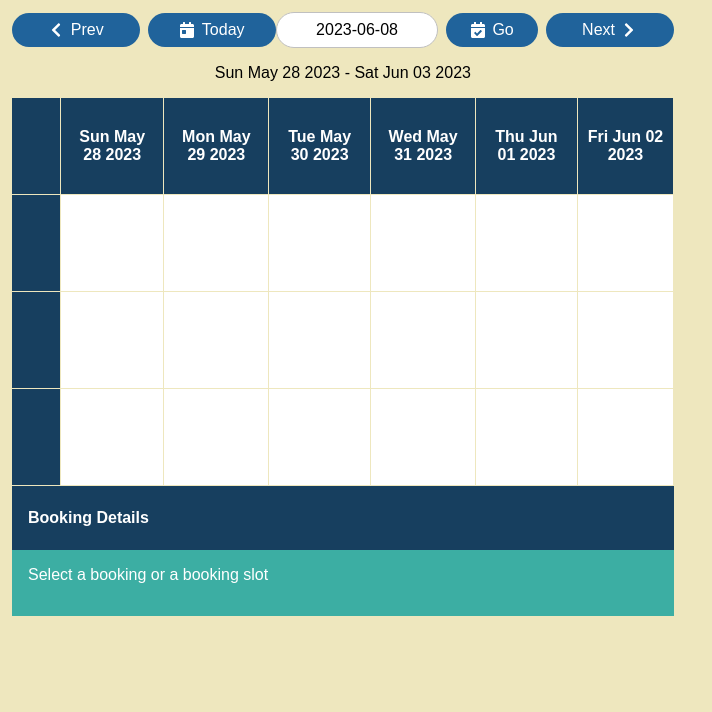
Scenario: Bookings › WeekPicker › should show a week and date when go to date feature is used
The image size is (712, 712).
Click the button with test id "today" at (212,30), box [148,13,276,47]
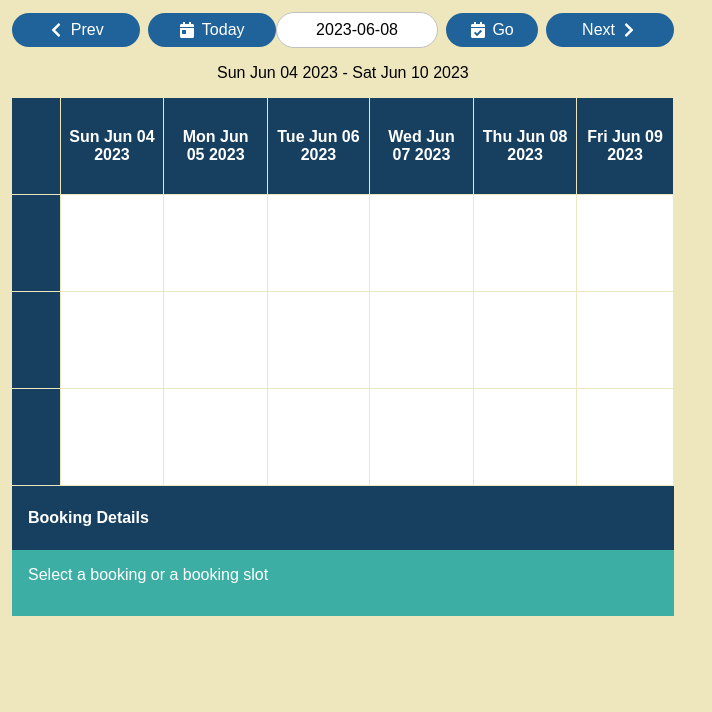
Replace the text in the field with test id "date-input" with "2020-09-02" at (357,30), box [276,12,438,48]
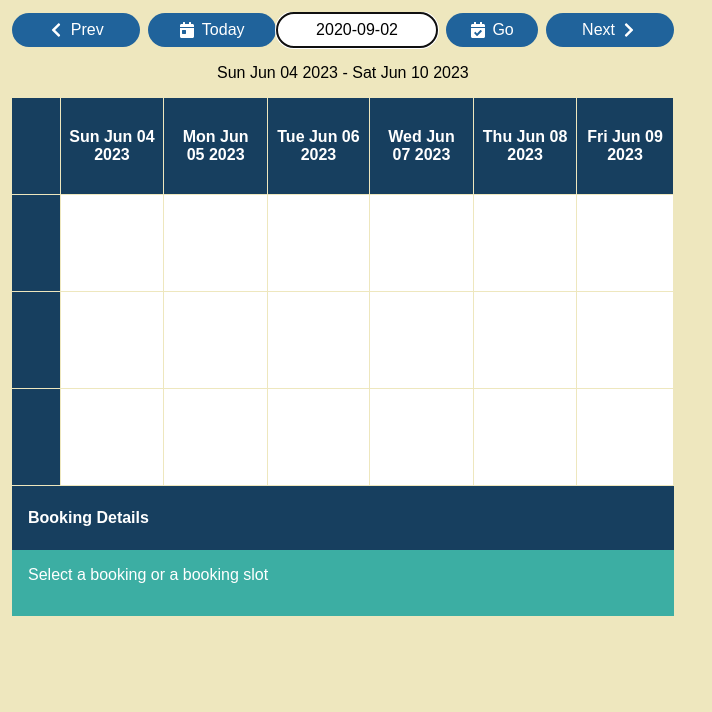
Click the button with test id "go" at (492,30), box [446,13,538,47]
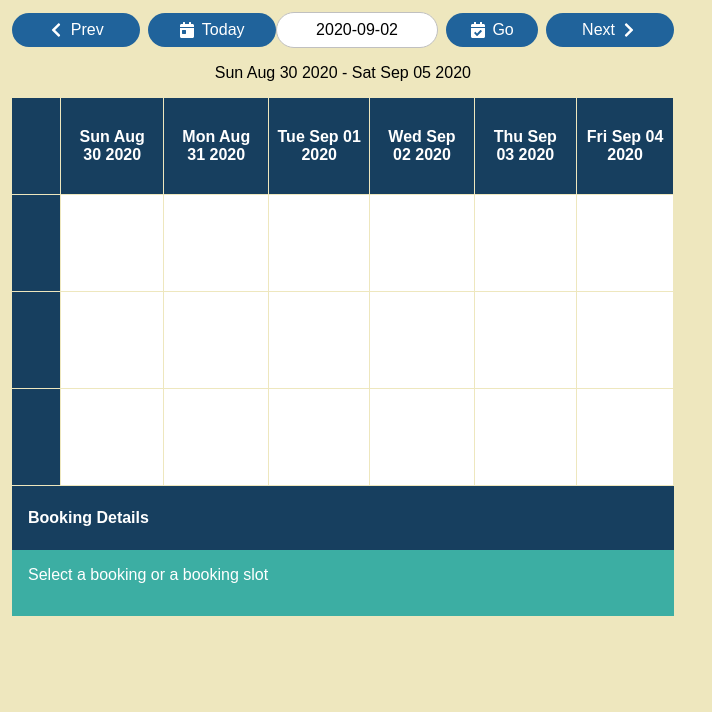
Result: the column heading "Sun Aug 30 2020" is shown at [60,98,164,194]
